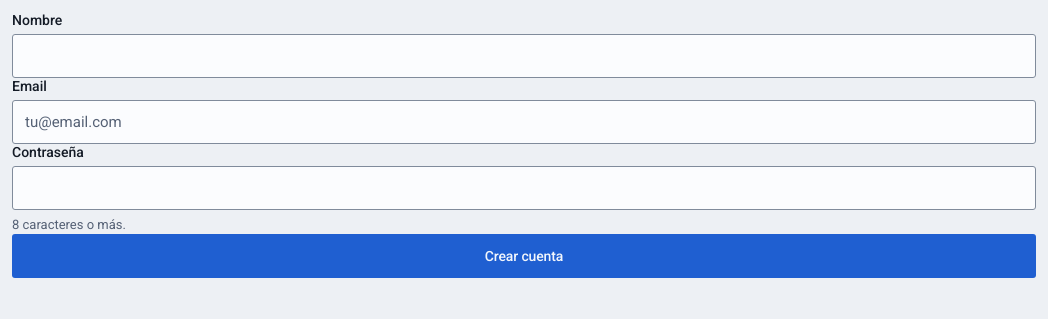
Test: RegisterForm › shows the fields the API rejects even if the browser accepted them
The image size is (1048, 319).
Step 1. Type "Lucía Ferrer" into the field labelled "Nombre" → (524, 56), box [12,34,1036,78]
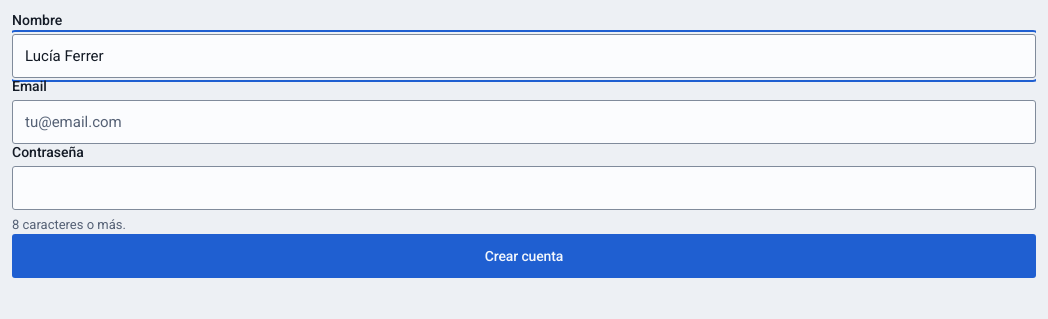
Step 2. Type "lucia@example.com" into the field labelled "Email" → (524, 122), box [12,100,1036,144]
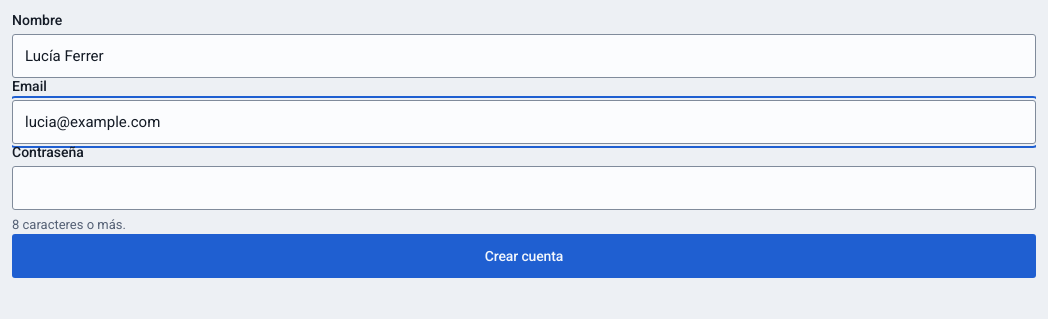
Step 3. Type "correct horse battery" into the password field labelled "Contraseña" → (524, 188), box [12,166,1036,210]
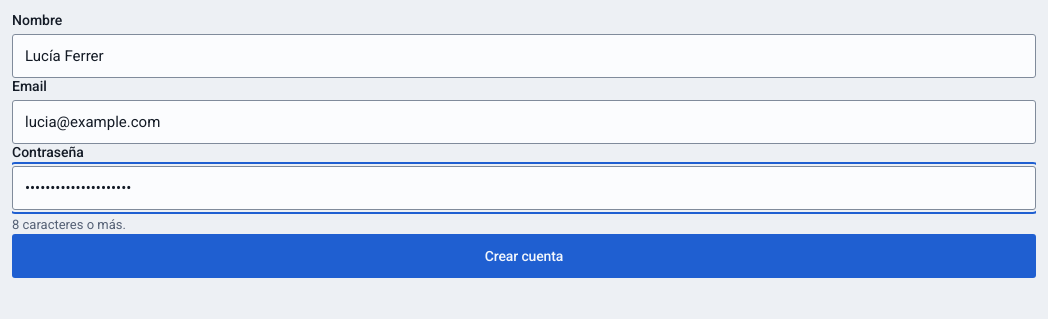
Step 4. Click the button "Crear cuenta" → (524, 256), box [12,234,1036,278]
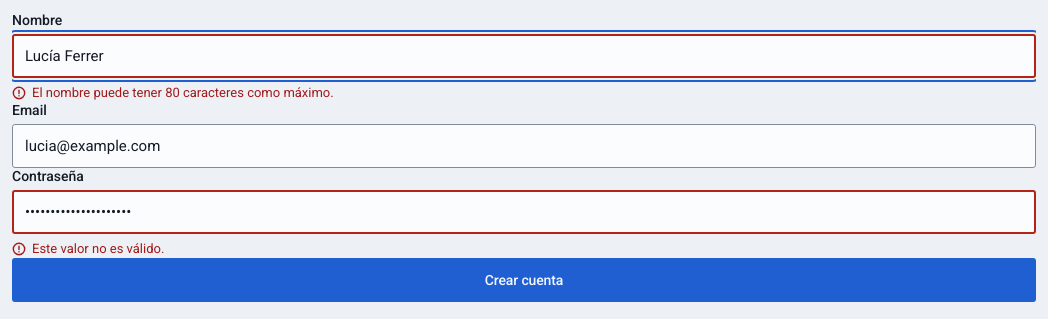
Result: the text "El nombre puede tener 80 caracteres como máximo." is shown at [32,84,334,102]
Result: the text "Este valor no es válido." is shown at [32,240,164,258]
